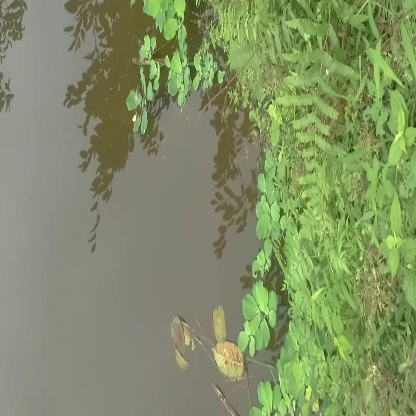leaf: (208, 337, 249, 387)
